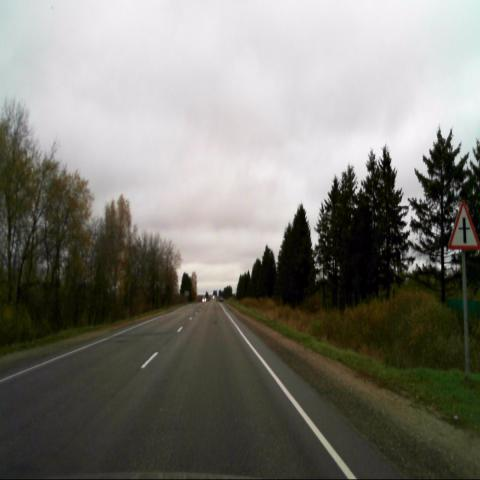2_3: (448, 198, 480, 250)
